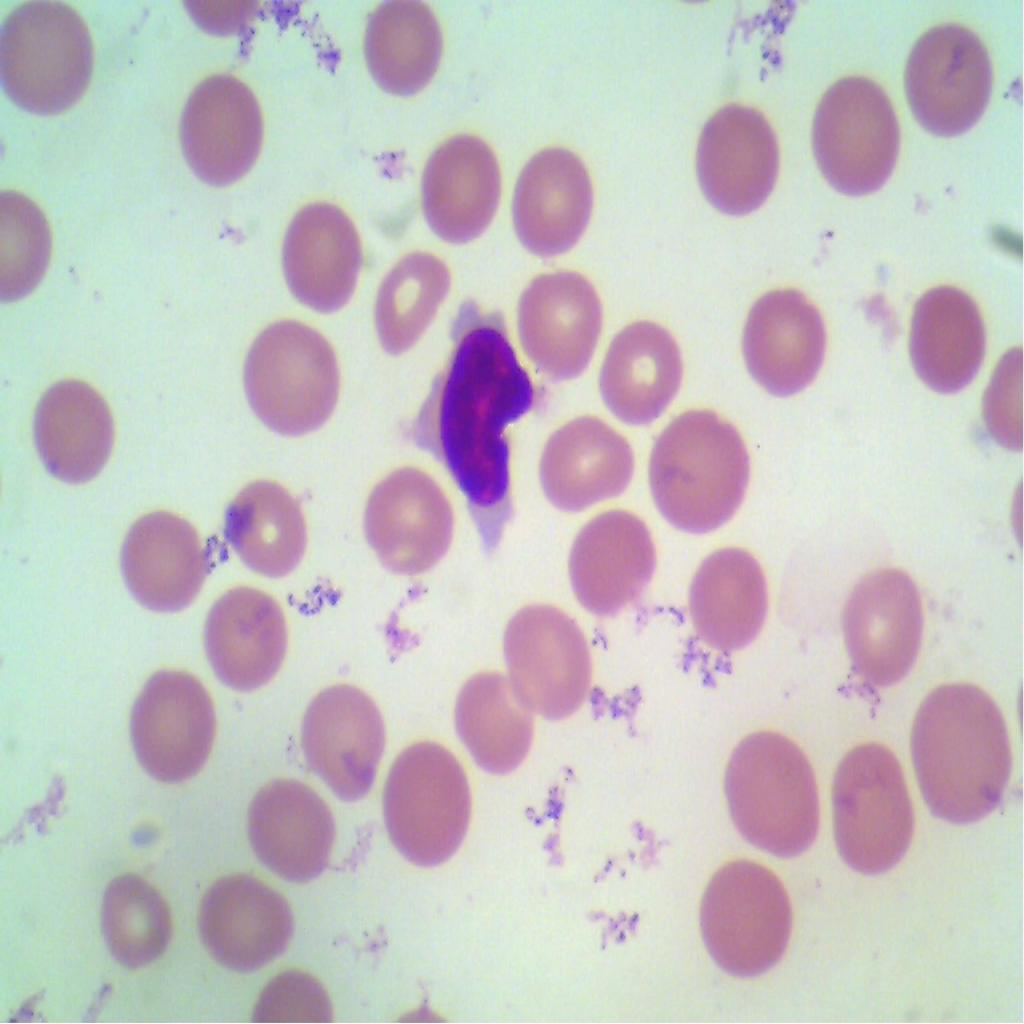Eritrosit: (636, 399, 758, 550), (914, 671, 1018, 828), (712, 729, 826, 864), (694, 852, 802, 994), (893, 11, 999, 150), (558, 504, 666, 638), (233, 315, 346, 437), (376, 735, 475, 871), (819, 741, 919, 875), (494, 598, 595, 728), (802, 76, 906, 202), (168, 74, 276, 195), (739, 284, 846, 405), (833, 562, 928, 696), (690, 98, 792, 222), (0, 0, 101, 125), (510, 266, 612, 387), (198, 858, 295, 984), (296, 669, 386, 804), (686, 541, 779, 671), (534, 408, 643, 518), (356, 462, 453, 584), (123, 664, 223, 781), (414, 128, 508, 251), (271, 189, 368, 308), (243, 772, 336, 894), (595, 314, 693, 428), (194, 578, 291, 692), (502, 139, 598, 254), (898, 278, 990, 394), (26, 378, 118, 490), (370, 245, 458, 362), (355, 0, 453, 105), (222, 477, 318, 584), (116, 506, 206, 618), (93, 862, 179, 977), (454, 665, 534, 782)
Limfosit: (410, 298, 546, 536)
